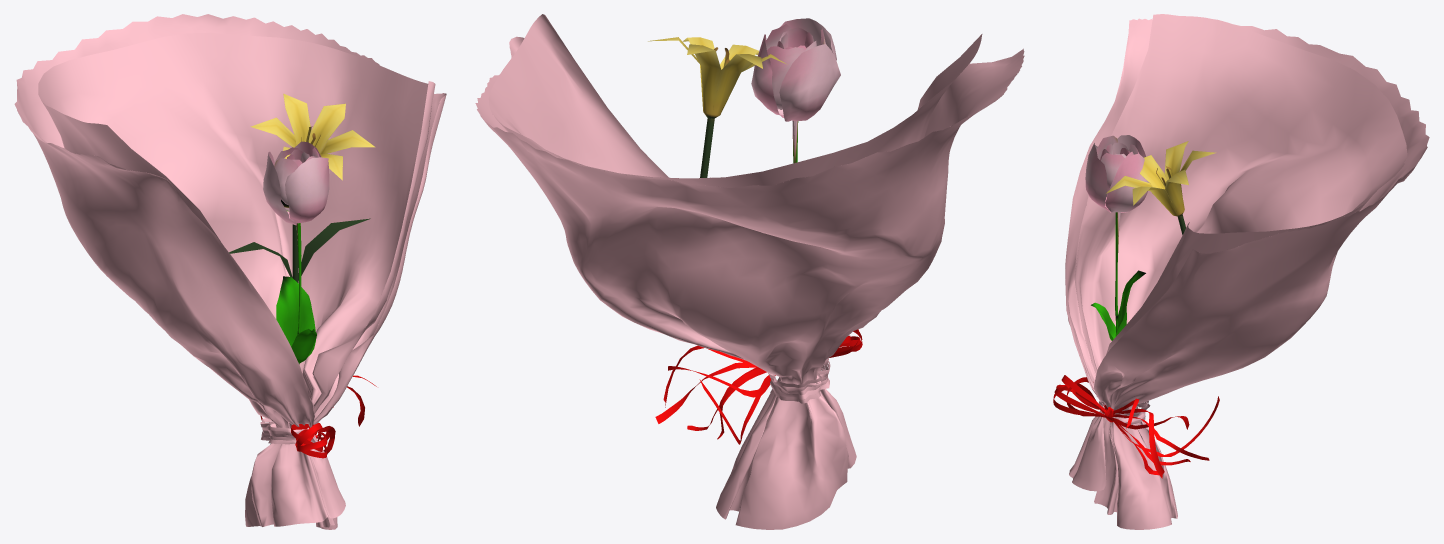
The picture shows the model from 3 angles, left to right: view 1: azimuth 30°, elevation 25°; view 2: azimuth 150°, elevation 25°; view 3: azimuth 270°, elevation 25°; orthographic projection. The views are drawn at different scales.
Visible parts, largest first — view 1: inner, outer, Geometry, SM_Lilly1, ribbon, parcel_knot; view 2: outer, inner, Geometry, SM_Lilly1, ribbon, parcel_knot; view 3: inner, outer, Geometry, ribbon, SM_Lilly1.
Part boxes in pixels (x1,y1,x2,y2): inner: (38, 32, 435, 428); outer: (14, 14, 446, 529); Geometry: (263, 141, 329, 364); SM_Lilly1: (229, 93, 375, 283); ribbon: (260, 375, 376, 458); parcel_knot: (260, 418, 308, 444); outer: (475, 36, 1024, 529); inner: (488, 14, 982, 187); Geometry: (751, 18, 840, 163); SM_Lilly1: (648, 37, 785, 177); ribbon: (655, 329, 862, 444); parcel_knot: (767, 358, 830, 403); inner: (1074, 14, 1407, 376); outer: (1065, 18, 1429, 529); Geometry: (1085, 135, 1149, 340); ribbon: (1053, 375, 1219, 478); SM_Lilly1: (1106, 141, 1216, 234).
Size of the model in its own units: 1.81 by 1.9 by 1.55.
7 materials, 2 textured.
